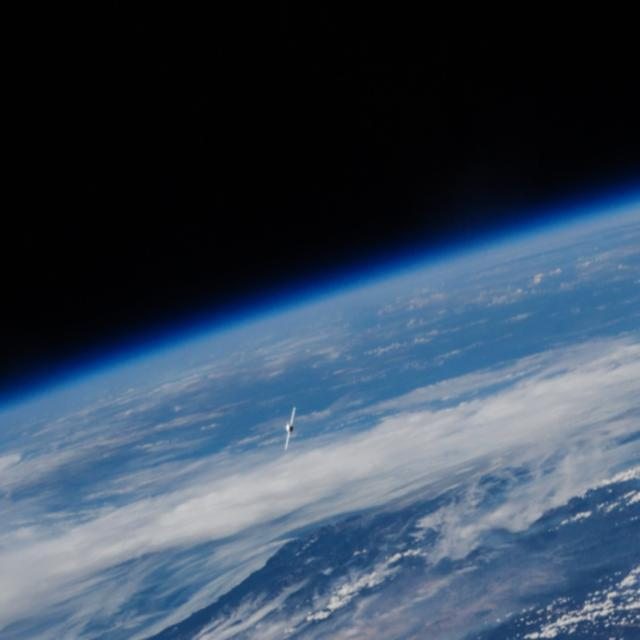satellite: (274, 405, 310, 465)
